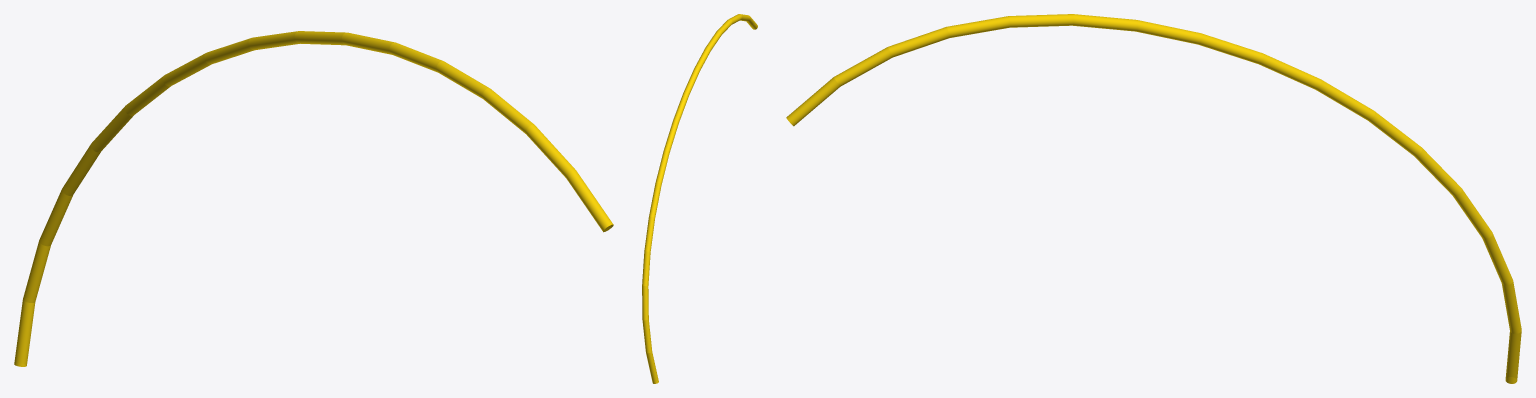
File: Event_421364160_track_19.fbx
The picture shows the model from 3 angles, left to right: view 1: azimuth 30°, elevation 25°; view 2: azimuth 150°, elevation 25°; view 3: azimuth 270°, elevation 25°; orthographic projection. The views are drawn at different scales.
Parts seen in each view (by area): view 1: Model; view 2: Model; view 3: Model.
Part boxes in pixels (x1,y1,x2,y2): Model: [14, 31, 613, 366]; Model: [642, 14, 757, 383]; Model: [786, 14, 1521, 383].
Size of the model in its own units: 0.7395 by 1.61 by 2.49.
